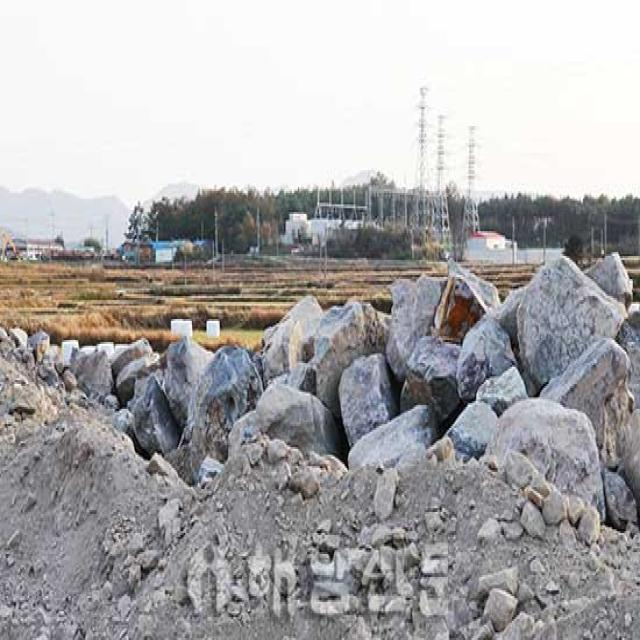rock: (540, 340, 639, 504), (503, 258, 624, 392), (485, 399, 603, 520), (179, 346, 262, 478), (228, 378, 339, 459), (314, 302, 387, 413), (385, 277, 446, 382), (349, 405, 434, 468), (339, 353, 396, 445), (457, 313, 515, 399), (263, 296, 322, 378), (433, 267, 499, 338), (401, 338, 458, 420), (163, 336, 212, 430), (130, 373, 179, 455), (447, 401, 497, 457), (476, 367, 527, 413), (70, 348, 112, 395), (116, 355, 157, 403), (109, 338, 150, 380), (280, 361, 315, 390), (38, 346, 62, 384), (28, 331, 49, 361), (62, 340, 78, 363)
